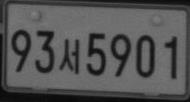0: (135, 34, 156, 78)
1: (161, 35, 182, 79)
3: (35, 30, 55, 74)
5: (85, 32, 106, 76)
9: (10, 28, 32, 73), (109, 32, 131, 77)
서: (58, 38, 80, 74)
